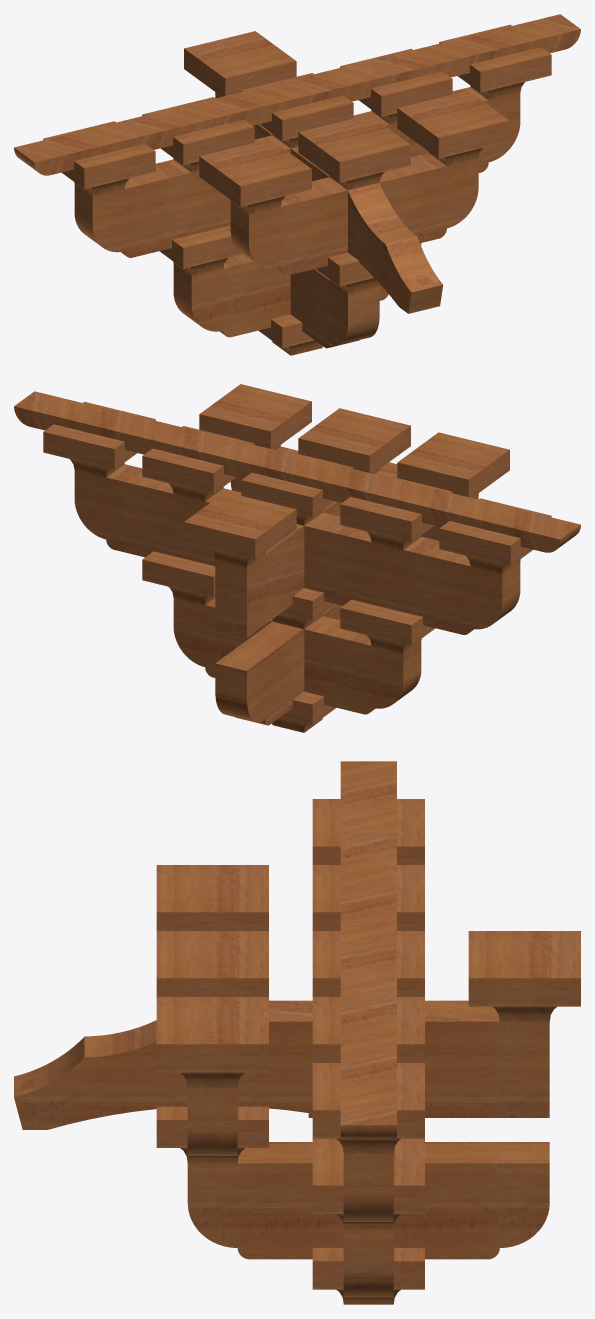
The picture shows the model from 3 angles, top to bottom: view 1: azimuth 30°, elevation 25°; view 2: azimuth 150°, elevation 25°; view 3: azimuth 270°, elevation 25°; orthographic projection. The views are drawn at different scales.
Parts seen in each view (by area): view 1: samor_4136_6144, samor_4136_6143, samor_4136_6139, samor_4136_6145, samor_4136_6136, samor_4136_6137, samor_4136_6133, samor_4136_6138, samor_4136_6126, samor_4136_6130, samor_4136_6129, samor_4136_6131 (+6 smaller); view 2: samor_4136_6139, samor_4136_6144, samor_4136_6136, samor_4136_6126, samor_4136_6145, samor_4136_6130, samor_4136_6138, samor_4136_6133, samor_4136_6137, samor_4136_6127, samor_4136_6131, samor_4136_6128 (+7 smaller); view 3: samor_4136_6145, samor_4136_6126, samor_4136_6144, samor_4136_6130, samor_4136_6137, samor_4136_6133, samor_4136_6138, samor_4136_6135, samor_4136_6131, samor_4136_6127, samor_4136_6128, samor_4136_6129 (+6 smaller).
Boxes of the visible parts, x1,y1,x2,y2 form: samor_4136_6144: (14,14,580,175); samor_4136_6143: (230,153,478,275); samor_4136_6139: (74,87,520,257); samor_4136_6145: (215,93,442,313); samor_4136_6136: (173,243,421,337); samor_4136_6137: (397,90,509,166); samor_4136_6133: (298,114,410,190); samor_4136_6138: (199,139,311,214); samor_4136_6126: (290,269,379,348); samor_4136_6130: (184,31,296,96); samor_4136_6129: (43,121,155,196); samor_4136_6131: (439,24,551,99); samor_4136_6139: (74,464,520,634); samor_4136_6144: (14,391,580,552); samor_4136_6136: (173,597,421,714); samor_4136_6126: (215,604,342,725); samor_4136_6145: (215,462,397,637); samor_4136_6130: (184,492,296,567); samor_4136_6138: (397,432,509,498); samor_4136_6133: (298,408,410,473); samor_4136_6137: (199,384,311,449); samor_4136_6127: (340,474,452,549); samor_4136_6131: (43,401,155,477); samor_4136_6128: (142,426,254,501); samor_4136_6145: (14,1000,549,1129); samor_4136_6126: (187,1142,549,1259); samor_4136_6144: (340,761,396,1139); samor_4136_6130: (468,931,580,1021); samor_4136_6137: (156,997,268,1087); samor_4136_6133: (156,931,268,996); samor_4136_6138: (156,865,268,930); samor_4136_6135: (312,1138,424,1229); samor_4136_6131: (312,1063,424,1153); samor_4136_6127: (312,865,424,930); samor_4136_6128: (312,997,424,1062); samor_4136_6129: (312,799,424,864).
Bounding box in the file's own units: 52.24 × 23.47 × 34.38.
1 material, 1 textured.
